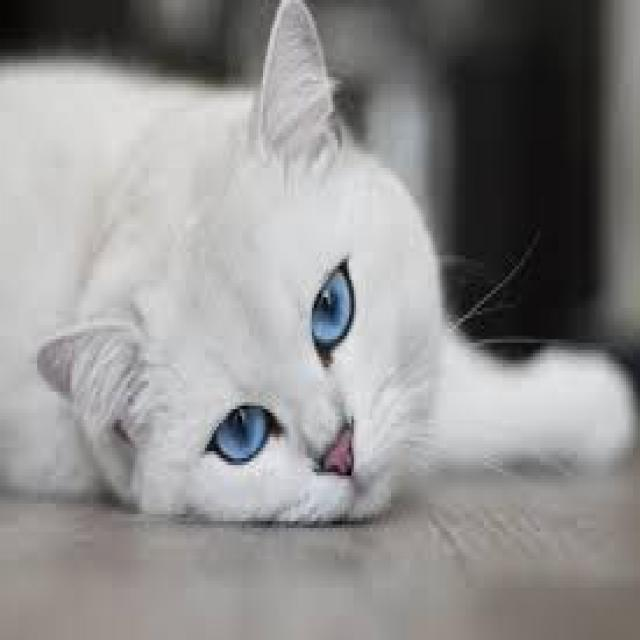Cat: (2, 1, 638, 532)
